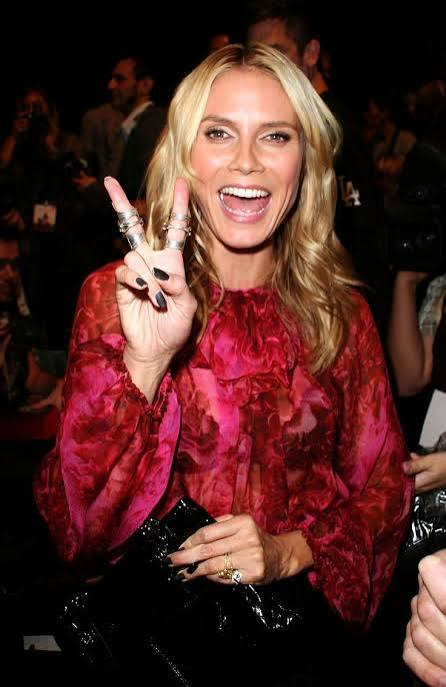peace_sign: (100, 167, 210, 355)
